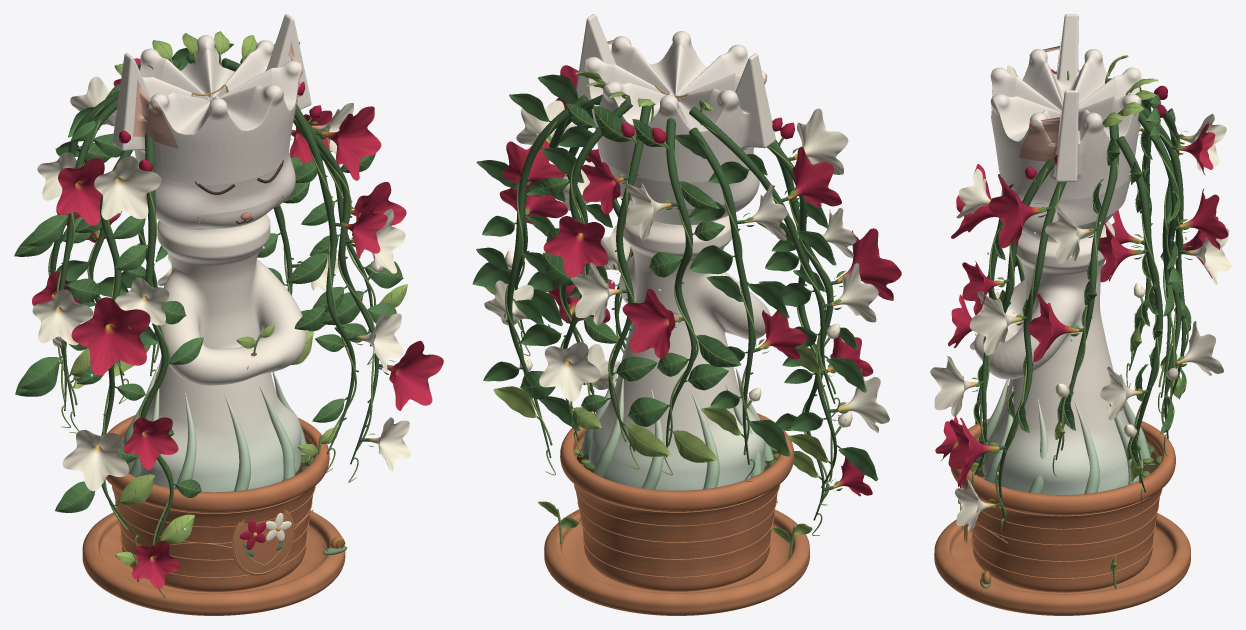
Rendered from mandevilla-living-presence.v2.glb.
3 views of the same model, side by side, from view 1: azimuth 30°, elevation 25°; view 2: azimuth 150°, elevation 25°; view 3: azimuth 270°, elevation 25° (orthographic). The views are drawn at different scales.
Parts seen in each view (by area): view 1: Anatomy | continuous queen torso and nurturing meditating pa, Anatomy | integral scalloped queen skull and cat ears, Flowers | red five-lobed trumpet flowers, Flowers | white five-lobed trumpet flowers, Earthwork | warm terracotta planter with open interior, Left garden | cupped living leaves, Earthwork | broad hand-thrown saucer, Right garden | cupped living leaves, Left garden | flowing crown-born stems, Right garden | flowing crown-born stems, Emergence | soft root flutes becoming ivory clay, Back garden | cupped living leaves (+10 smaller); view 2: Anatomy | integral scalloped queen skull and cat ears, Earthwork | warm terracotta planter with open interior, Anatomy | continuous queen torso and nurturing meditating pa, Flowers | red five-lobed trumpet flowers, Flowers | white five-lobed trumpet flowers, Left garden | cupped living leaves, Back garden | cupped living leaves, Right garden | cupped living leaves, Earthwork | broad hand-thrown saucer, Left garden | flowing crown-born stems, Back garden | flowing crown-born stems, Right garden | flowing crown-born stems (+11 smaller); view 3: Anatomy | continuous queen torso and nurturing meditating pa, Anatomy | integral scalloped queen skull and cat ears, Earthwork | warm terracotta planter with open interior, Flowers | red five-lobed trumpet flowers, Flowers | white five-lobed trumpet flowers, Earthwork | broad hand-thrown saucer, Right garden | flowing crown-born stems, Back garden | flowing crown-born stems, Right garden | cupped living leaves, Emergence | soft root flutes becoming ivory clay, Back garden | cupped living leaves, Right garden | winding companion tendrils (+12 smaller).
Part boxes in pixels (left/top/right/bottom): Anatomy | continuous queen torso and nurturing meditating pa: left=127, top=214, right=306, bottom=492; Anatomy | integral scalloped queen skull and cat ears: left=112, top=14, right=311, bottom=229; Flowers | red five-lobed trumpet flowers: left=32, top=58, right=443, bottom=588; Flowers | white five-lobed trumpet flowers: left=32, top=76, right=410, bottom=491; Earthwork | warm terracotta planter with open interior: left=105, top=415, right=329, bottom=591; Left garden | cupped living leaves: left=14, top=83, right=203, bottom=543; Earthwork | broad hand-thrown saucer: left=82, top=510, right=345, bottom=615; Right garden | cupped living leaves: left=257, top=42, right=407, bottom=422; Left garden | flowing crown-born stems: left=50, top=90, right=173, bottom=544; Right garden | flowing crown-born stems: left=221, top=58, right=379, bottom=464; Emergence | soft root flutes becoming ivory clay: left=122, top=364, right=310, bottom=491; Back garden | cupped living leaves: left=55, top=43, right=233, bottom=388; Anatomy | integral scalloped queen skull and cat ears: left=576, top=14, right=775, bottom=225; Earthwork | warm terracotta planter with open interior: left=560, top=413, right=794, bottom=591; Anatomy | continuous queen torso and nurturing meditating pa: left=589, top=207, right=770, bottom=490; Flowers | red five-lobed trumpet flowers: left=499, top=65, right=901, bottom=496; Flowers | white five-lobed trumpet flowers: left=484, top=100, right=889, bottom=432; Left garden | cupped living leaves: left=675, top=134, right=878, bottom=481; Back garden | cupped living leaves: left=520, top=103, right=741, bottom=462; Right garden | cupped living leaves: left=472, top=74, right=627, bottom=431; Earthwork | broad hand-thrown saucer: left=544, top=509, right=809, bottom=615; Left garden | flowing crown-born stems: left=689, top=107, right=836, bottom=520; Back garden | flowing crown-born stems: left=563, top=99, right=696, bottom=457; Right garden | flowing crown-born stems: left=507, top=94, right=633, bottom=457; Anatomy | continuous queen torso and nurturing meditating pa: left=974, top=221, right=1143, bottom=494; Anatomy | integral scalloped queen skull and cat ears: left=990, top=14, right=1141, bottom=242; Earthwork | warm terracotta planter with open interior: left=950, top=418, right=1175, bottom=592; Flowers | red five-lobed trumpet flowers: left=935, top=122, right=1228, bottom=486; Flowers | white five-lobed trumpet flowers: left=930, top=65, right=1231, bottom=532; Earthwork | broad hand-thrown saucer: left=934, top=513, right=1190, bottom=615; Right garden | flowing crown-born stems: left=974, top=124, right=1162, bottom=523; Back garden | flowing crown-born stems: left=1129, top=89, right=1186, bottom=439; Right garden | cupped living leaves: left=978, top=137, right=1162, bottom=481; Emergence | soft root flutes becoming ivory clay: left=976, top=379, right=1150, bottom=493; Back garden | cupped living leaves: left=1146, top=94, right=1190, bottom=433; Right garden | winding companion tendrils: left=979, top=136, right=1159, bottom=515.
Bounding box in the file's own units: 0.7667 × 1 × 0.5291.
